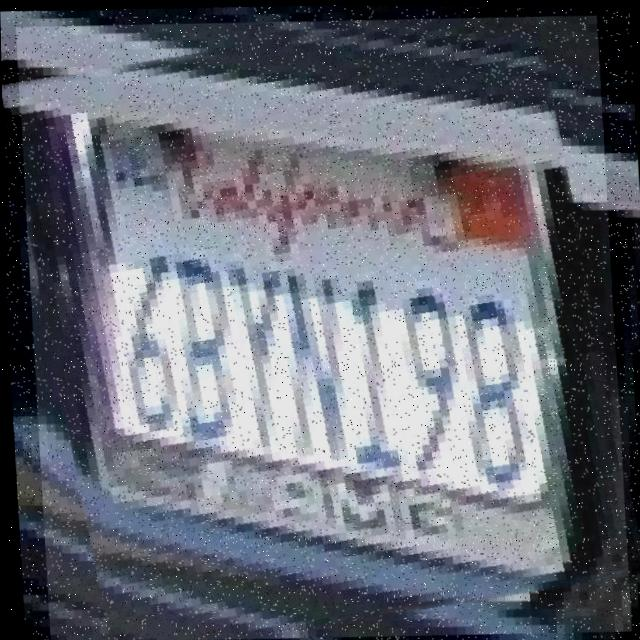LicensePlate: (14, 6, 628, 640)
